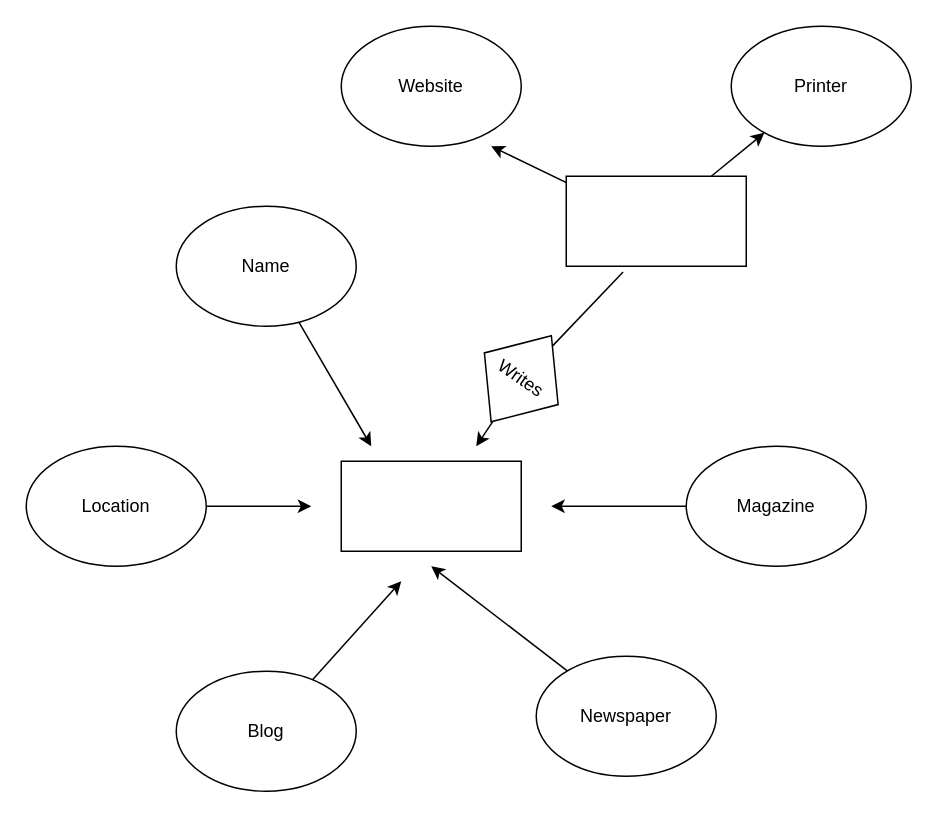
Some shapes in this 938 by 818 pixel diagram are drawn without their labels. The shapes that lost their labels are listed below. From the top down, each one's centre as x and y in pixels, then its label:
pixel 655 220: Books
pixel 430 505: Author
